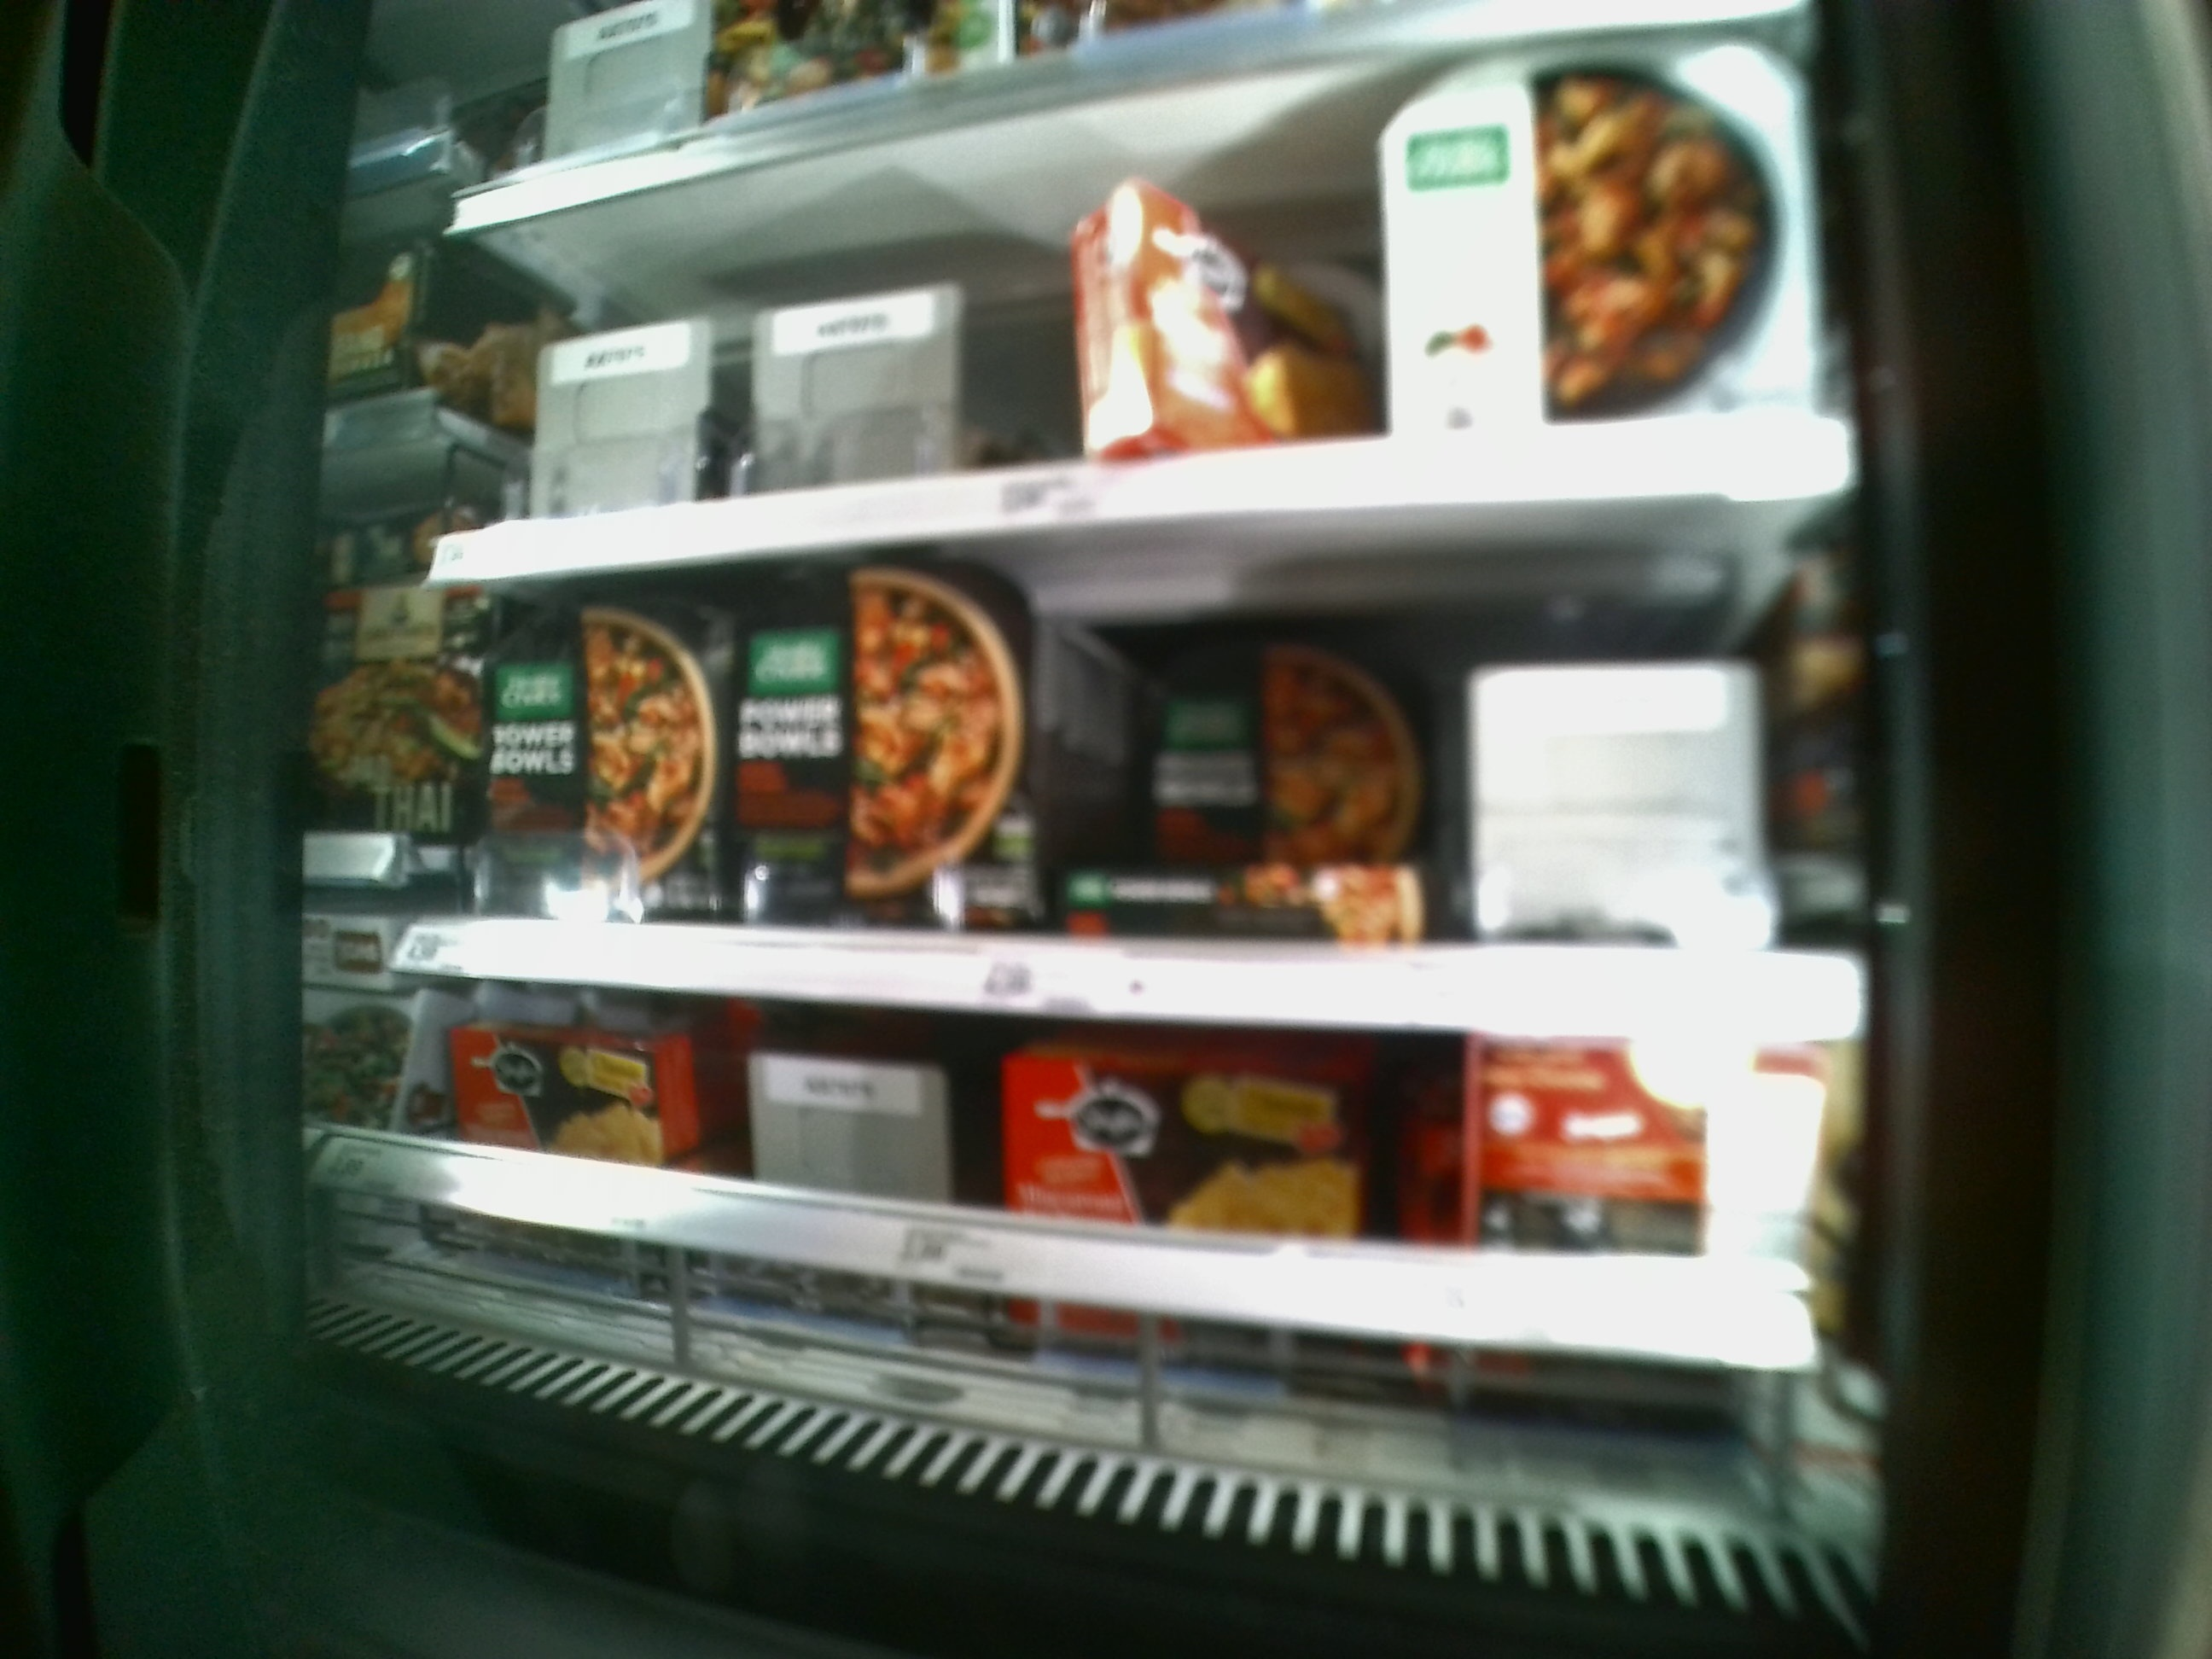shelf: (421, 505, 1871, 1033), (359, 979, 1871, 1485)
